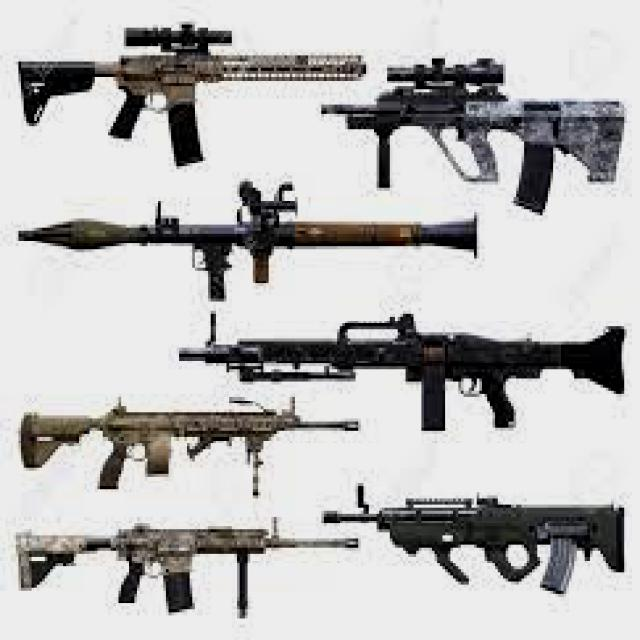long weapon: (12, 190, 484, 300), (338, 45, 636, 208), (17, 15, 336, 158), (9, 488, 346, 618), (322, 460, 630, 582), (187, 303, 628, 388), (22, 388, 360, 492)
